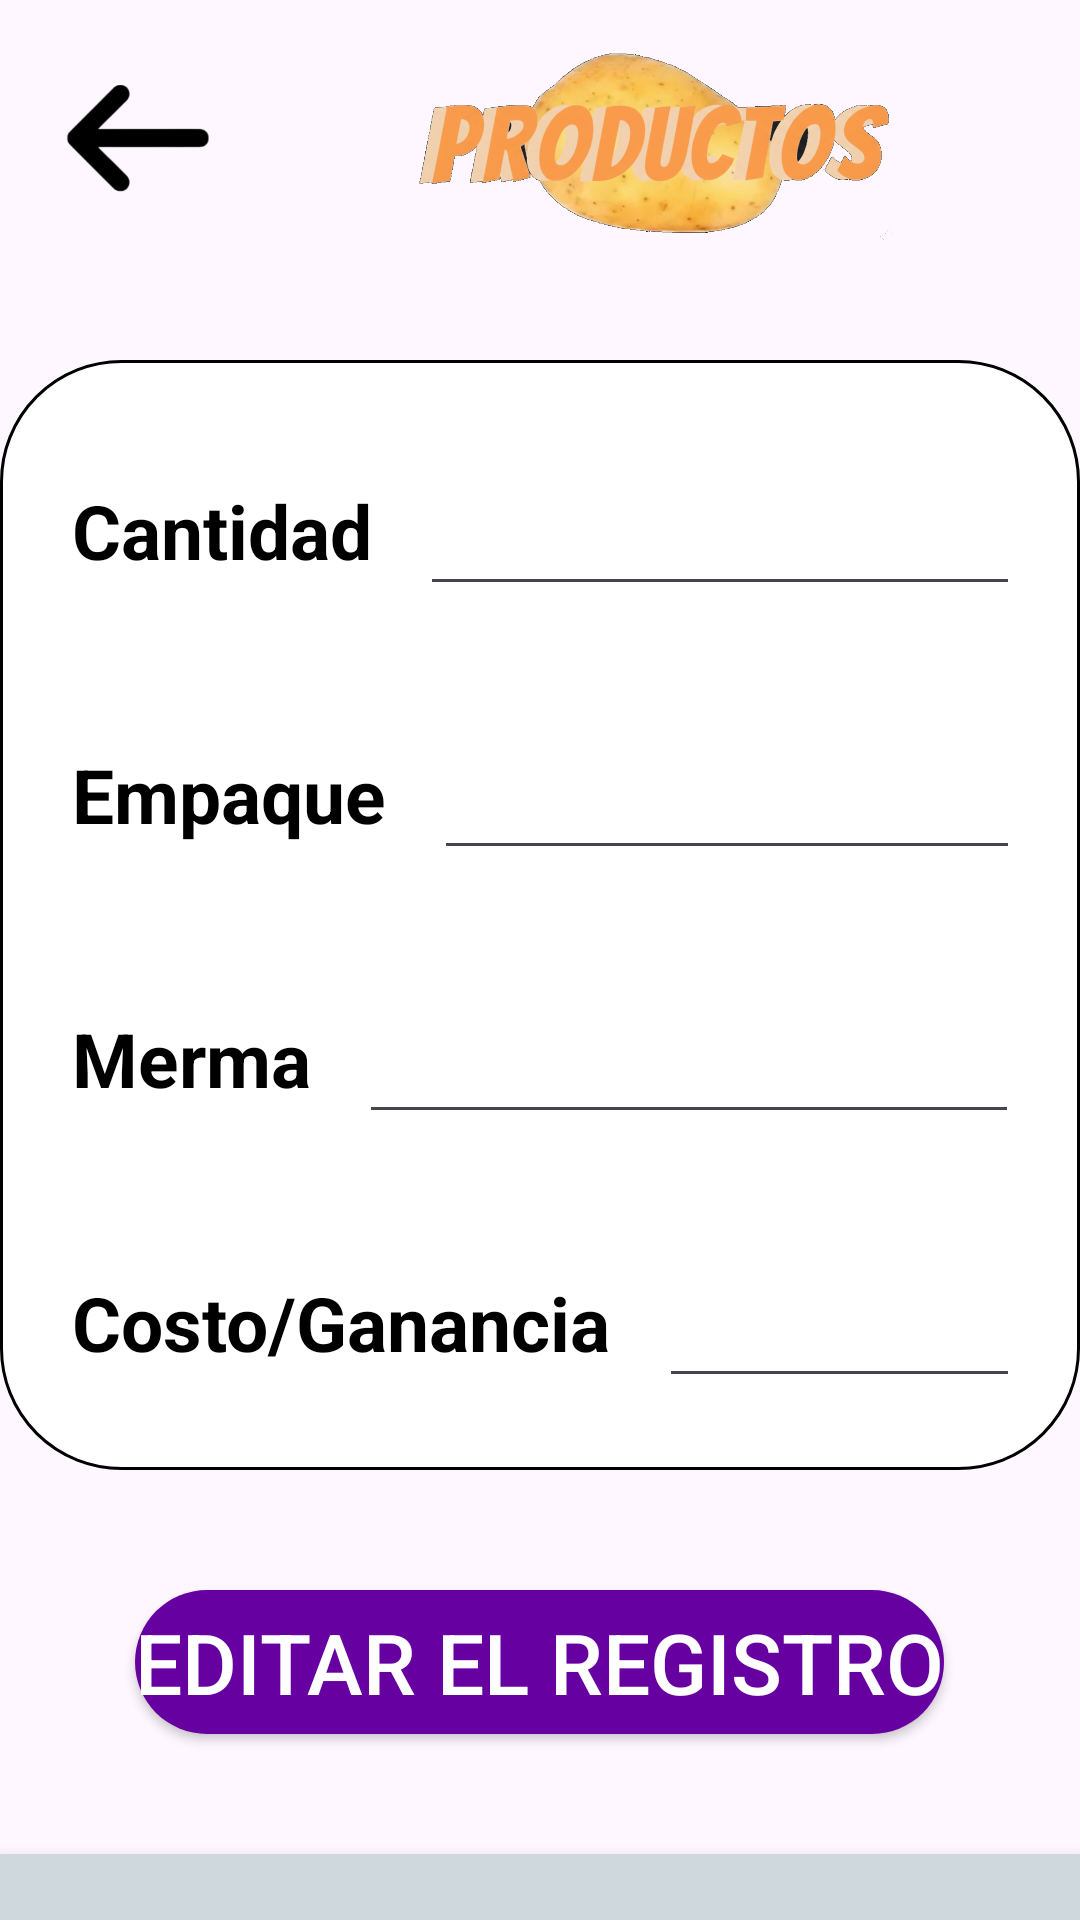

Where icons sit on this 1080×1920 app screen, as (x1, y1, x2, y2):
Regresar: (67, 85, 209, 192)
